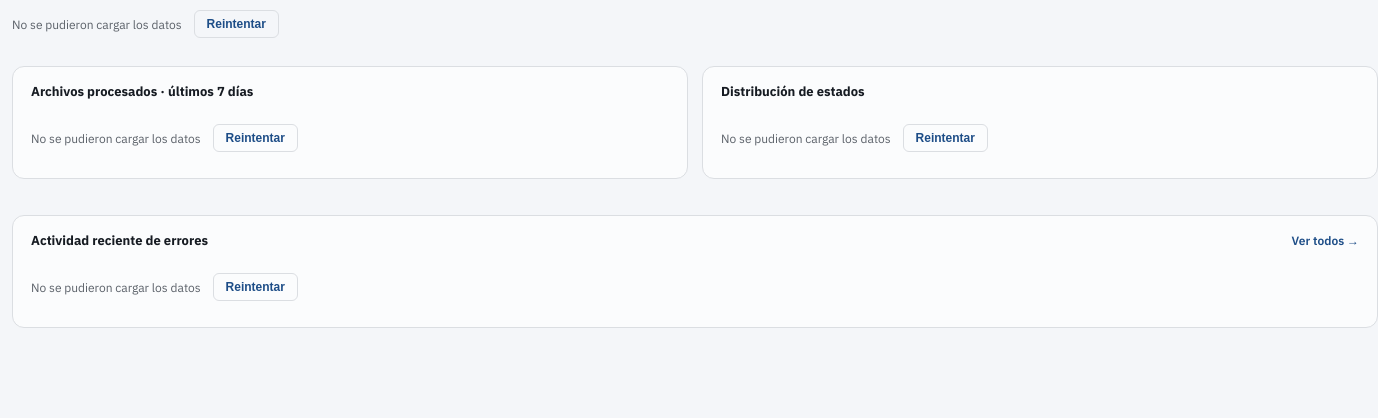
Test case: Dashboard polling and error states (R7) › shows a retry affordance per widget on fetch failure and recovers
This screenshot has width=1378, height=418.
Click the 1st button "Reintentar".
click(236, 24)  # box [194,10,279,38]
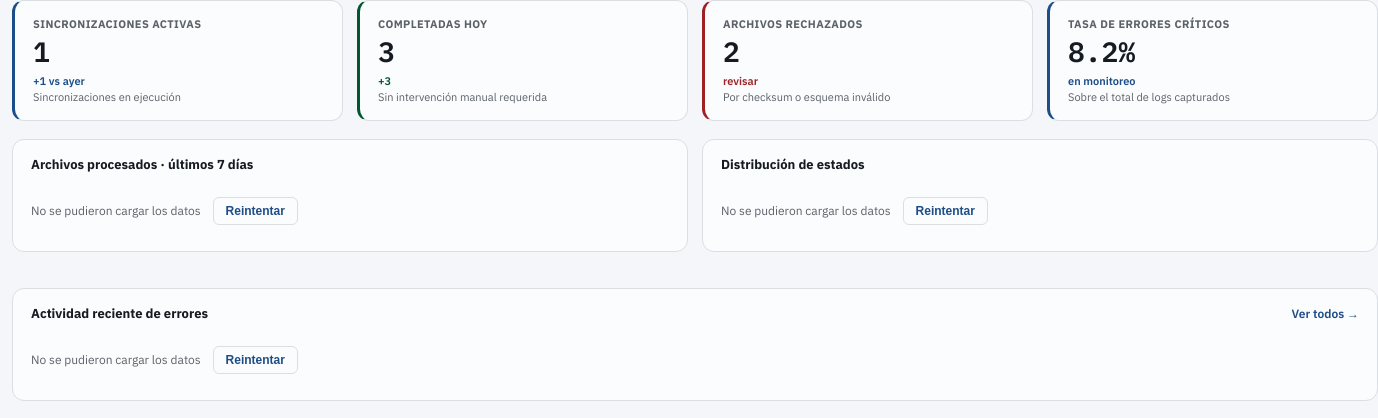
Now the text "Sincronizaciones activas" is shown, box [33,17,201,31]
